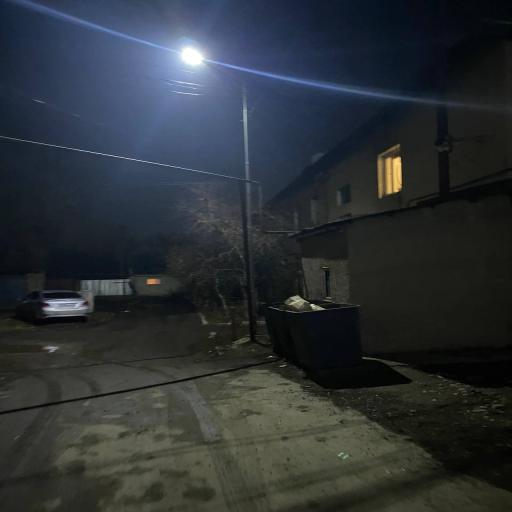bottle: (16, 279, 95, 326)
phone: (170, 36, 279, 350)
ramp: (0, 299, 511, 512)
traffic_light: (260, 285, 370, 379)
